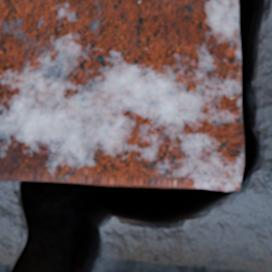brick: (0, 0, 242, 189)
crack: (2, 0, 271, 271)
